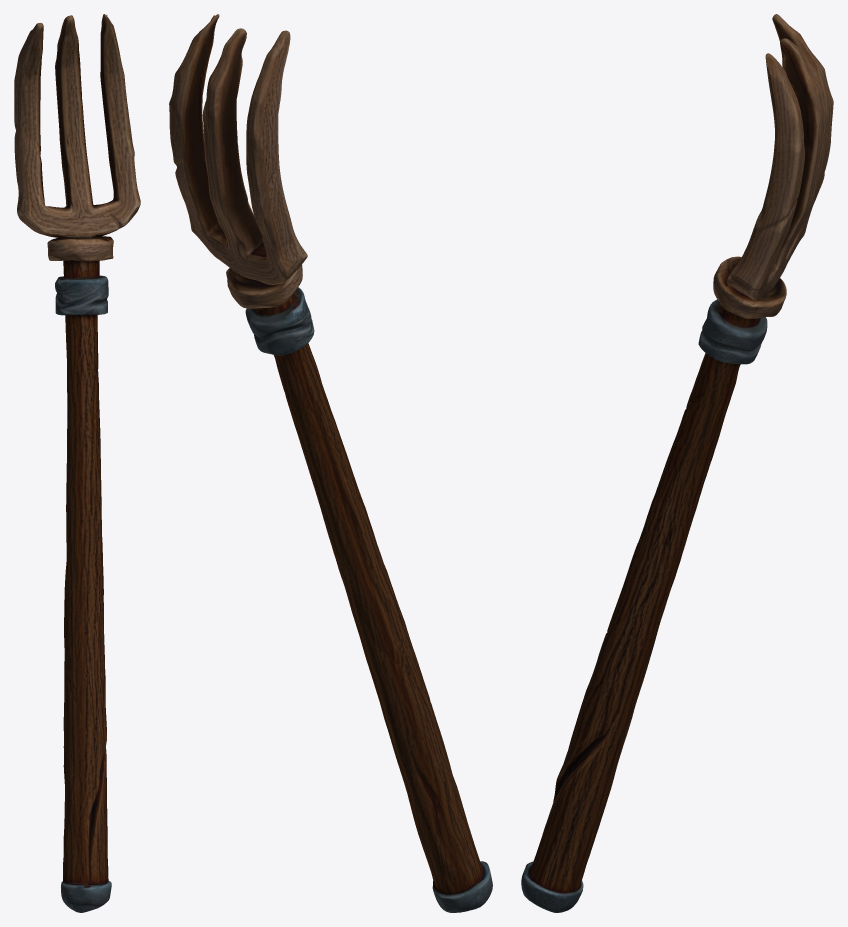
File: pitchfork_3d_model.fbx
The picture shows the model from 3 angles, left to right: view 1: azimuth 30°, elevation 25°; view 2: azimuth 150°, elevation 25°; view 3: azimuth 270°, elevation 25°; orthographic projection. The views are drawn at different scales.
Visible parts, largest first — view 1: tripo_node_2af3c30b; view 2: tripo_node_2af3c30b; view 3: tripo_node_2af3c30b.
Part boxes in pixels (bbox=[...]): tripo_node_2af3c30b: bbox=[14, 14, 140, 912]; tripo_node_2af3c30b: bbox=[169, 14, 492, 912]; tripo_node_2af3c30b: bbox=[521, 14, 833, 912].
Size of the model in its own units: 0.2113 by 0.9831 by 0.3014.
